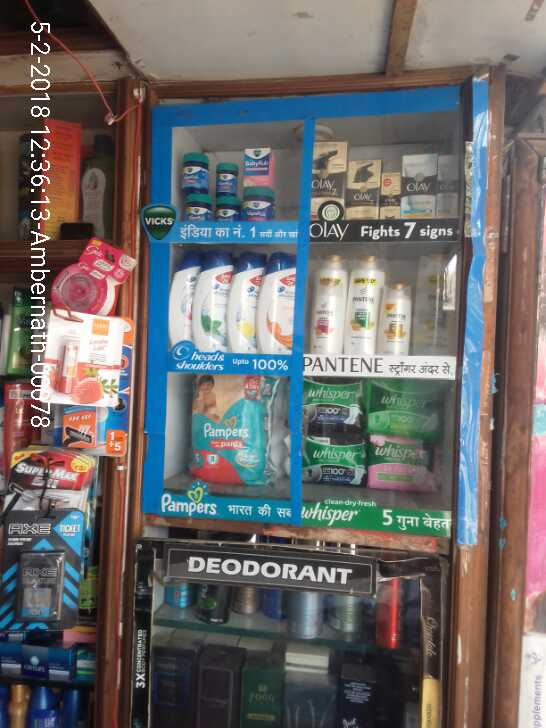vicks: (177, 146, 281, 228)
